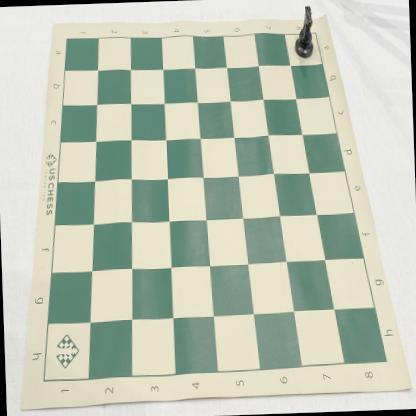knight: (293, 5, 315, 60)
